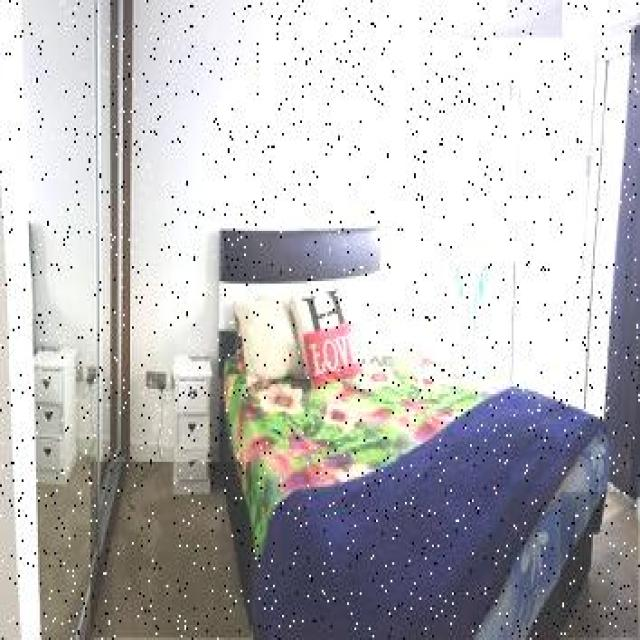Wall: (131, 0, 633, 459), (92, 463, 251, 637), (562, 494, 640, 637), (429, 1, 562, 38)
